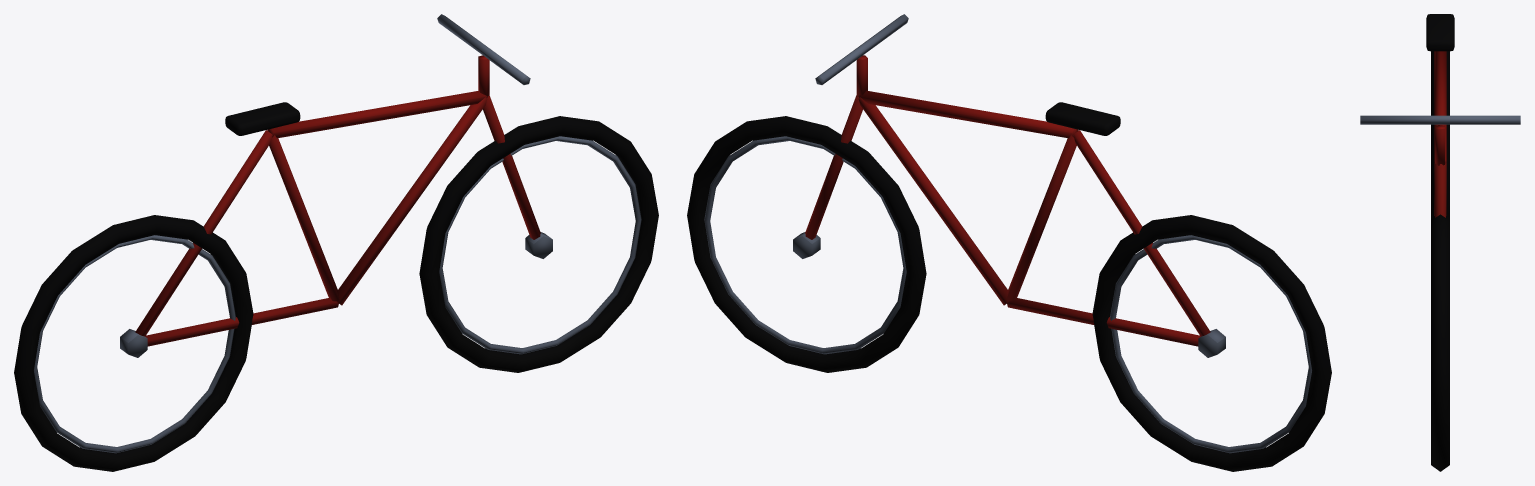
File: bicycle.glb
3 views of the same model, side by side, from view 1: azimuth 30°, elevation 25°; view 2: azimuth 150°, elevation 25°; view 3: azimuth 270°, elevation 25° (orthographic). The views are drawn at different scales.
Parts seen in each view (by area): view 1: bicycle; view 2: bicycle; view 3: bicycle.
Part boxes in pixels (box(x1,y1,x2,y2)): bicycle: box(14, 14, 658, 471); bicycle: box(687, 14, 1331, 471); bicycle: box(1360, 14, 1520, 471).
Size of the model in its own units: 1.75 by 0.8721 by 0.4.
